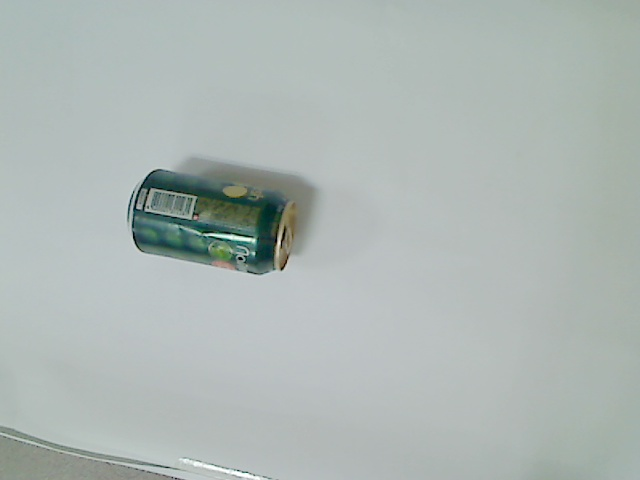can: (122, 167, 303, 278)
